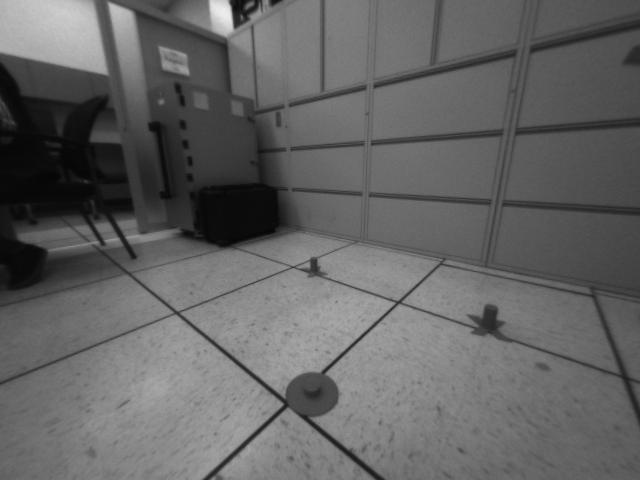X: (466, 304, 514, 343), (300, 255, 330, 278)
